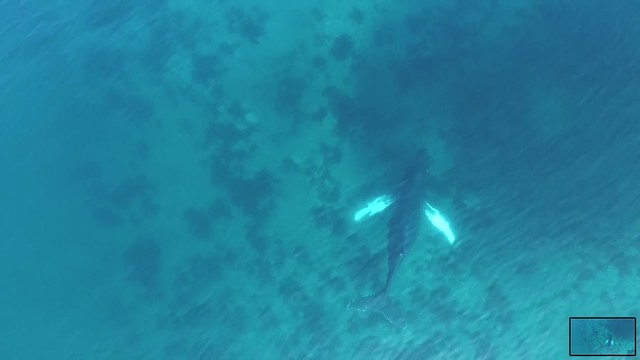whale: (341, 143, 460, 336)
